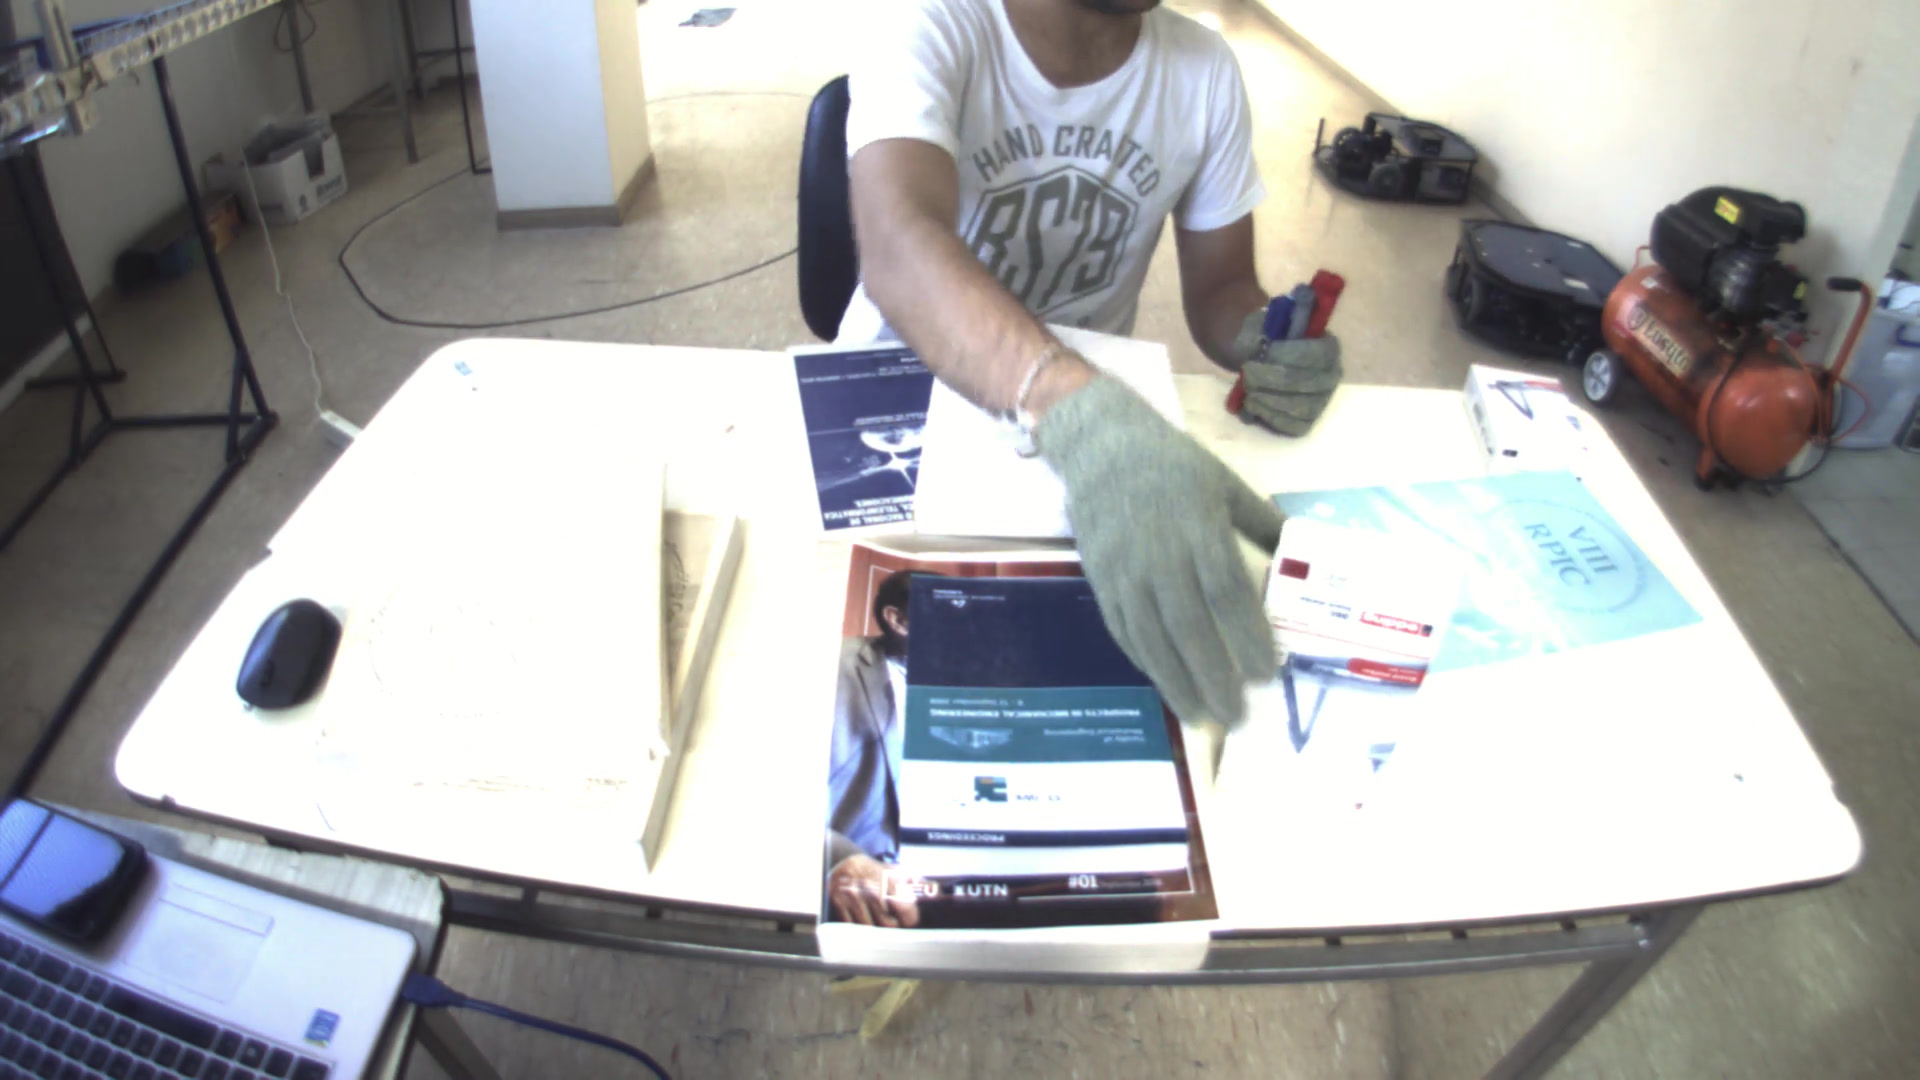hand: (1026, 367, 1308, 731), (1226, 319, 1349, 436)
